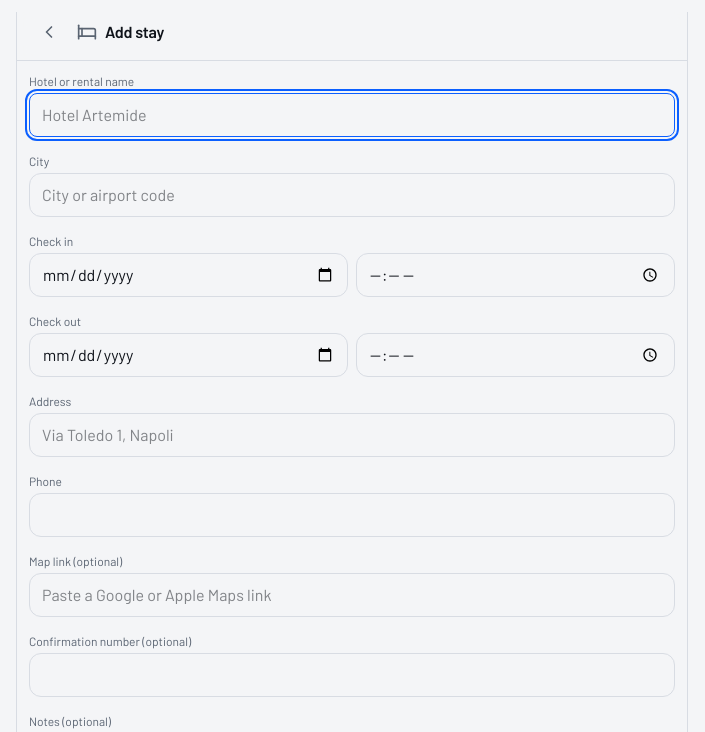
Test: a place that is not in the list › names where the zone came from, so a wrong one is visible
Note: A date first: that is what lets the trip say where you already are.
Type "2026-05-10" into the date field named "Check in date" at (188, 275), box [29, 253, 348, 297]
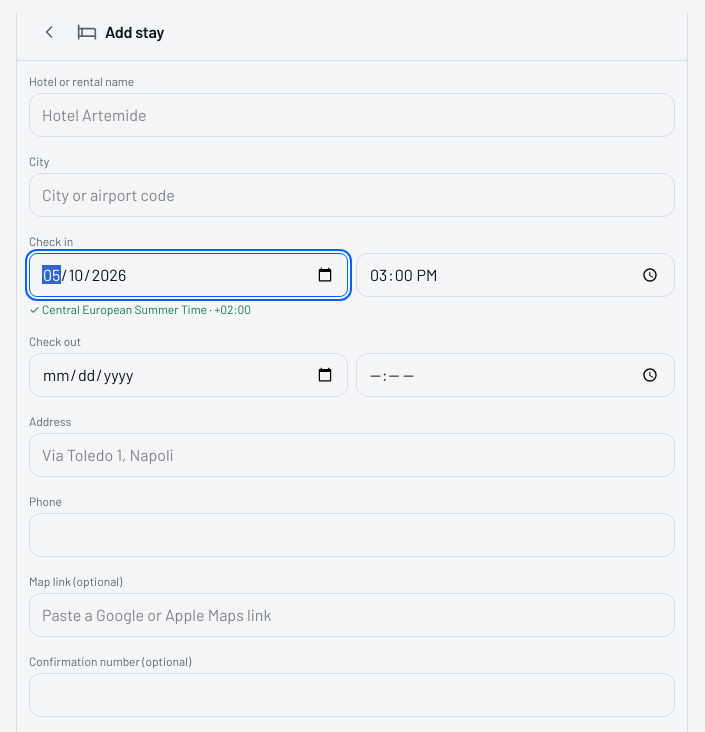
Type "Positano" into the field labelled "City" at (352, 195), box [29, 173, 675, 217]
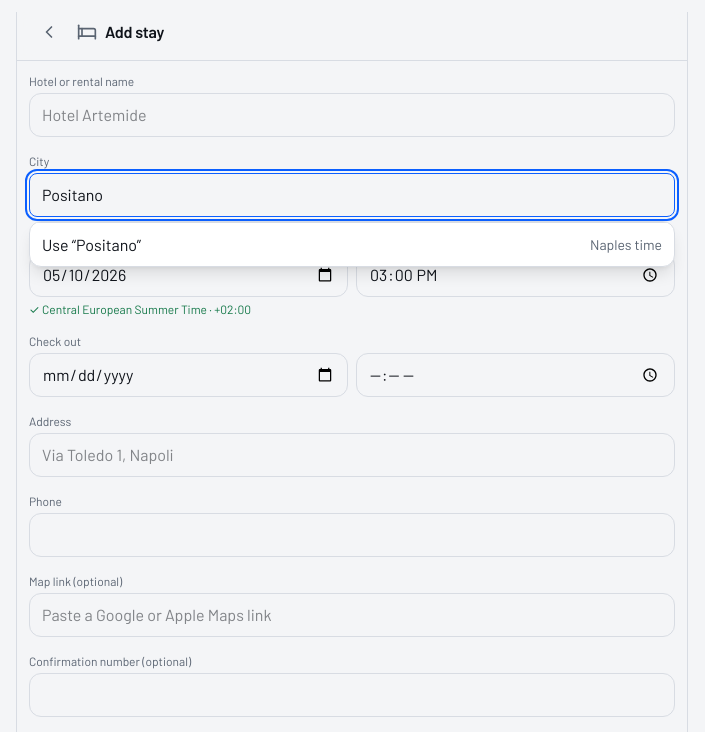
expect the button "Use “Positano” Naples time" is shown: met, box [30, 222, 674, 266]
